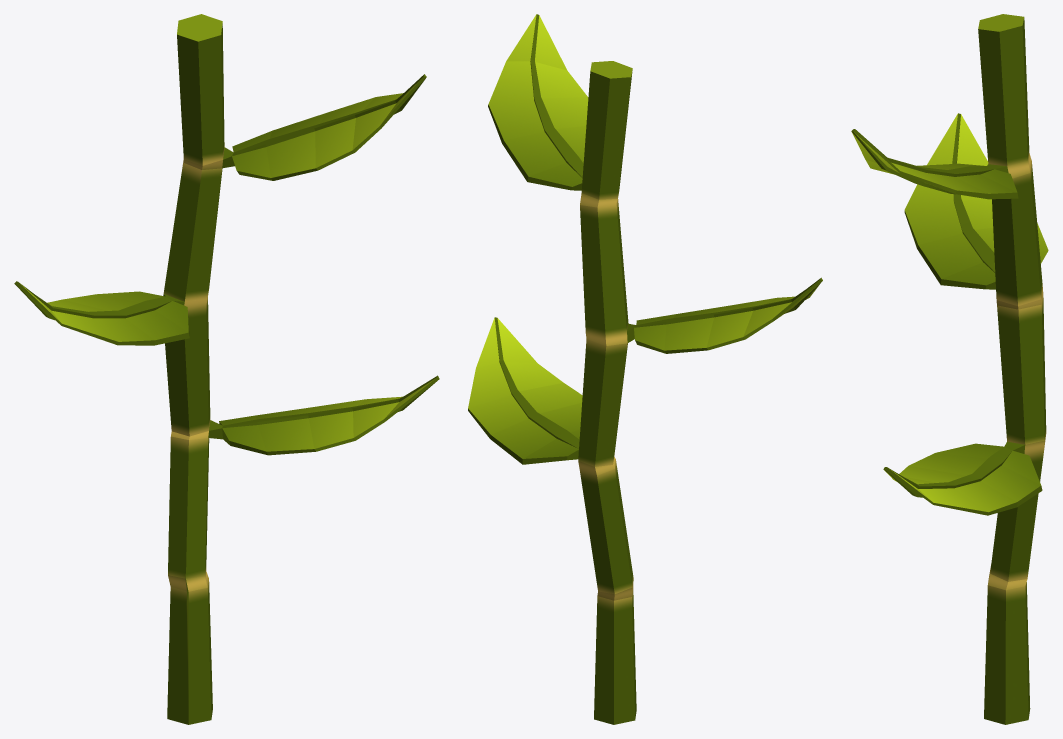
File: stemV2.gltf
3 renders of one model, left to right at view 1: azimuth 30°, elevation 25°; view 2: azimuth 150°, elevation 25°; view 3: azimuth 270°, elevation 25°, orthographic. The views are drawn at different scales.
Visible parts, largest first — view 1: stem; view 2: stem; view 3: stem.
Boxes of the visible parts, <box> form: stem: <box>14,14,439,724</box>; stem: <box>468,14,822,724</box>; stem: <box>851,14,1048,724</box>.
Size of the model in its own units: 4.77 by 8.1 by 2.08.
1 material, 1 textured.
